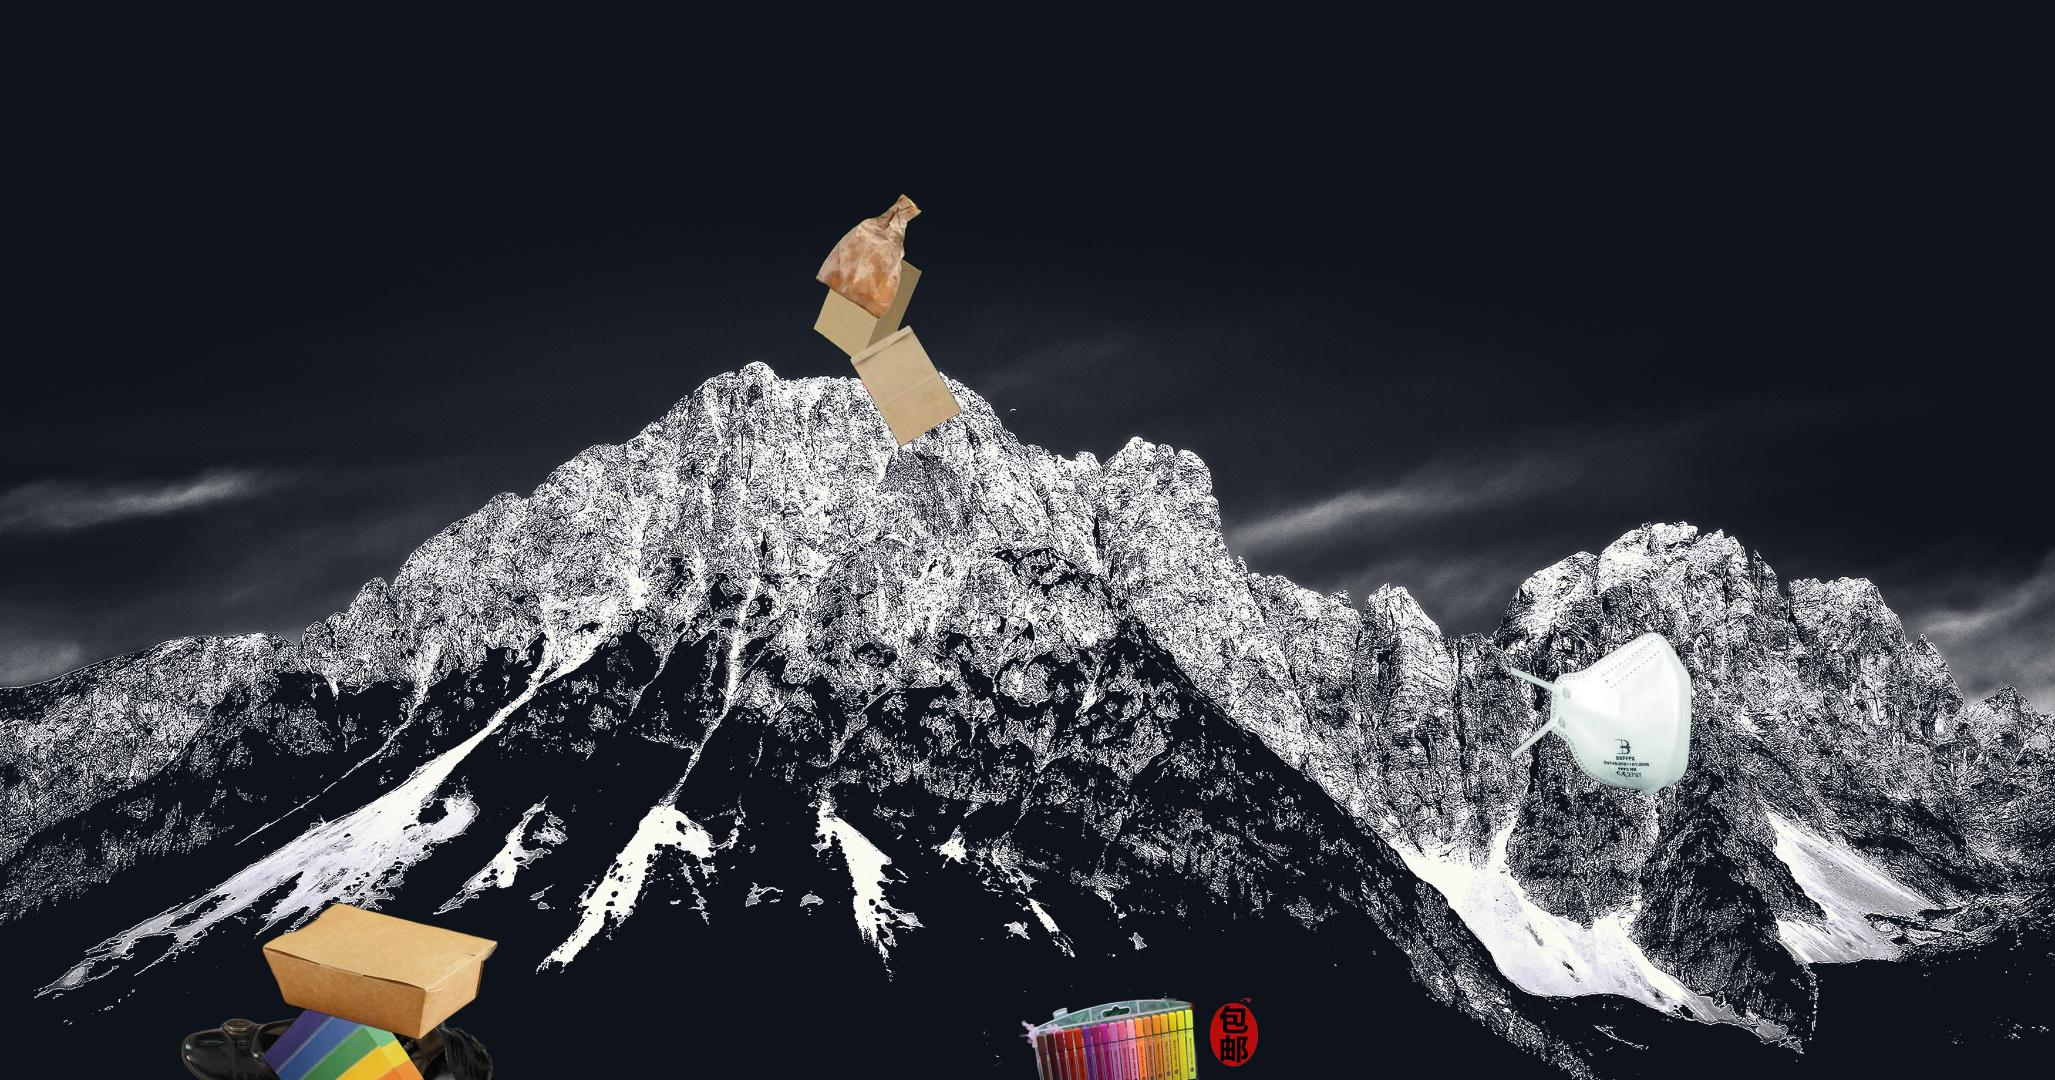paper-bag: (810, 192, 965, 448), (260, 979, 440, 1080)
penholder: (1019, 998, 1259, 1080)
shoes: (178, 969, 497, 1080)
trash: (1507, 629, 1695, 799)
trashbox-cardboard: (260, 899, 502, 1041)
